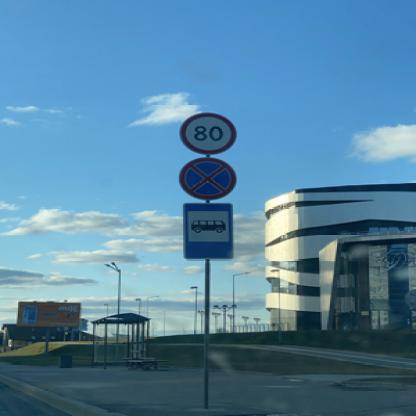speedlimit: (178, 111, 235, 153)
